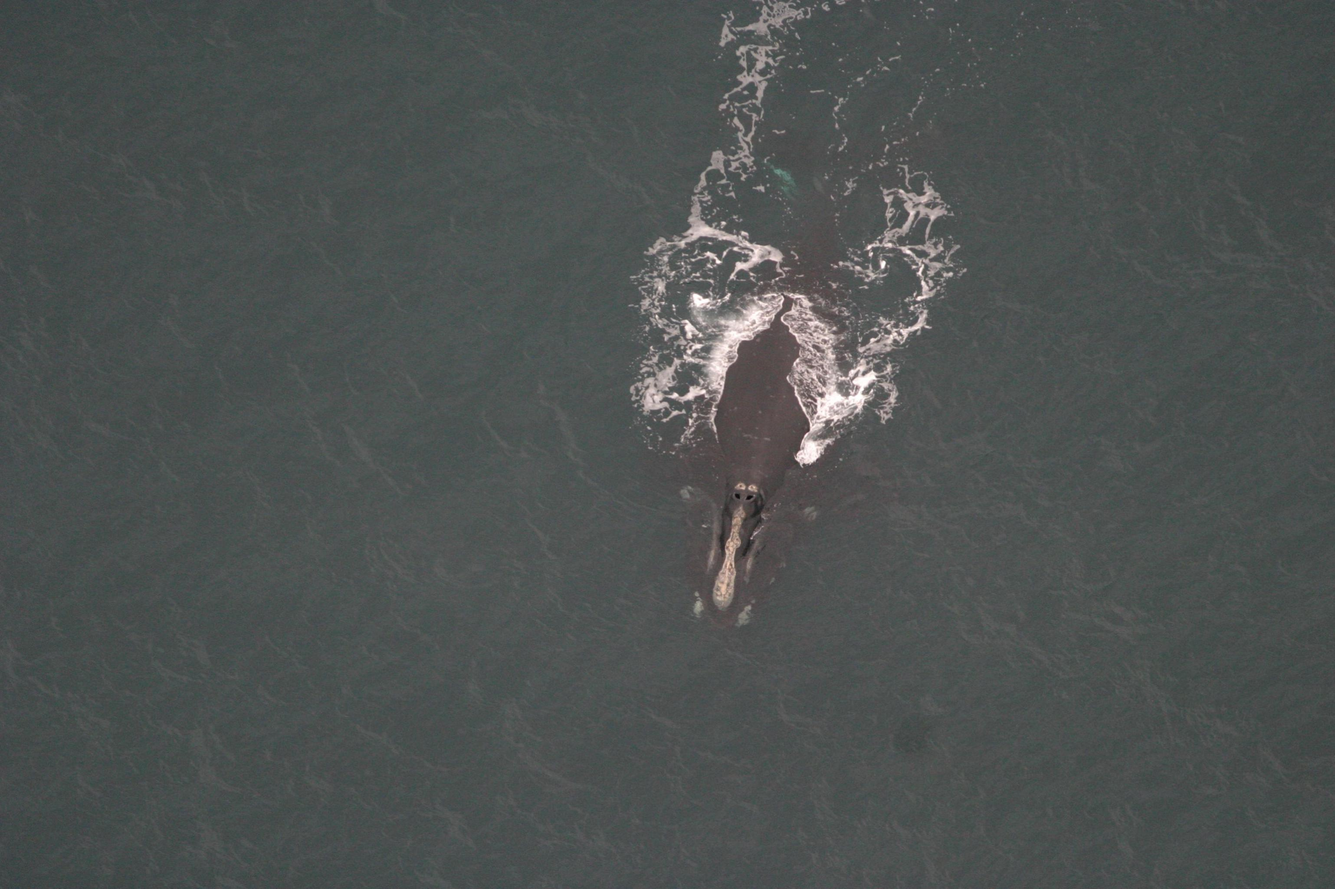whale: (664, 93, 950, 638)
